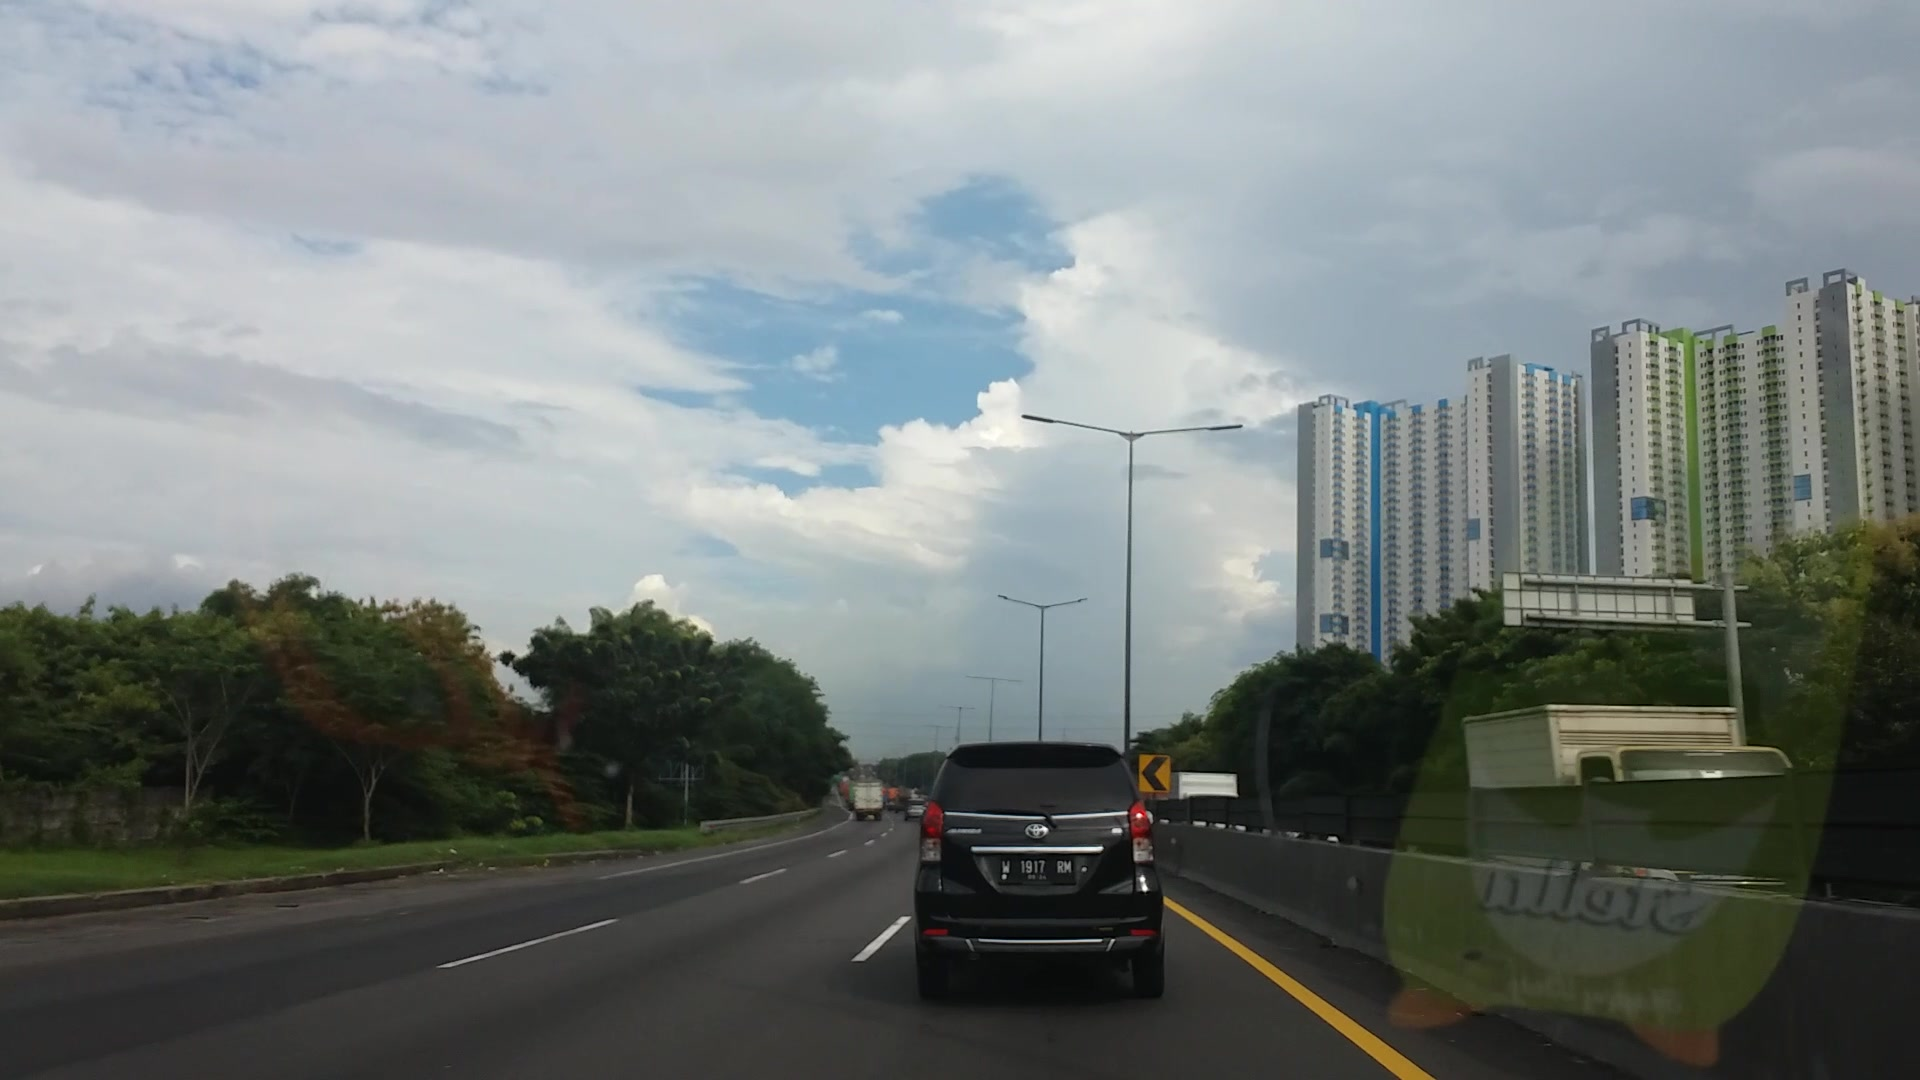plate_positive: (998, 857, 1073, 882)
